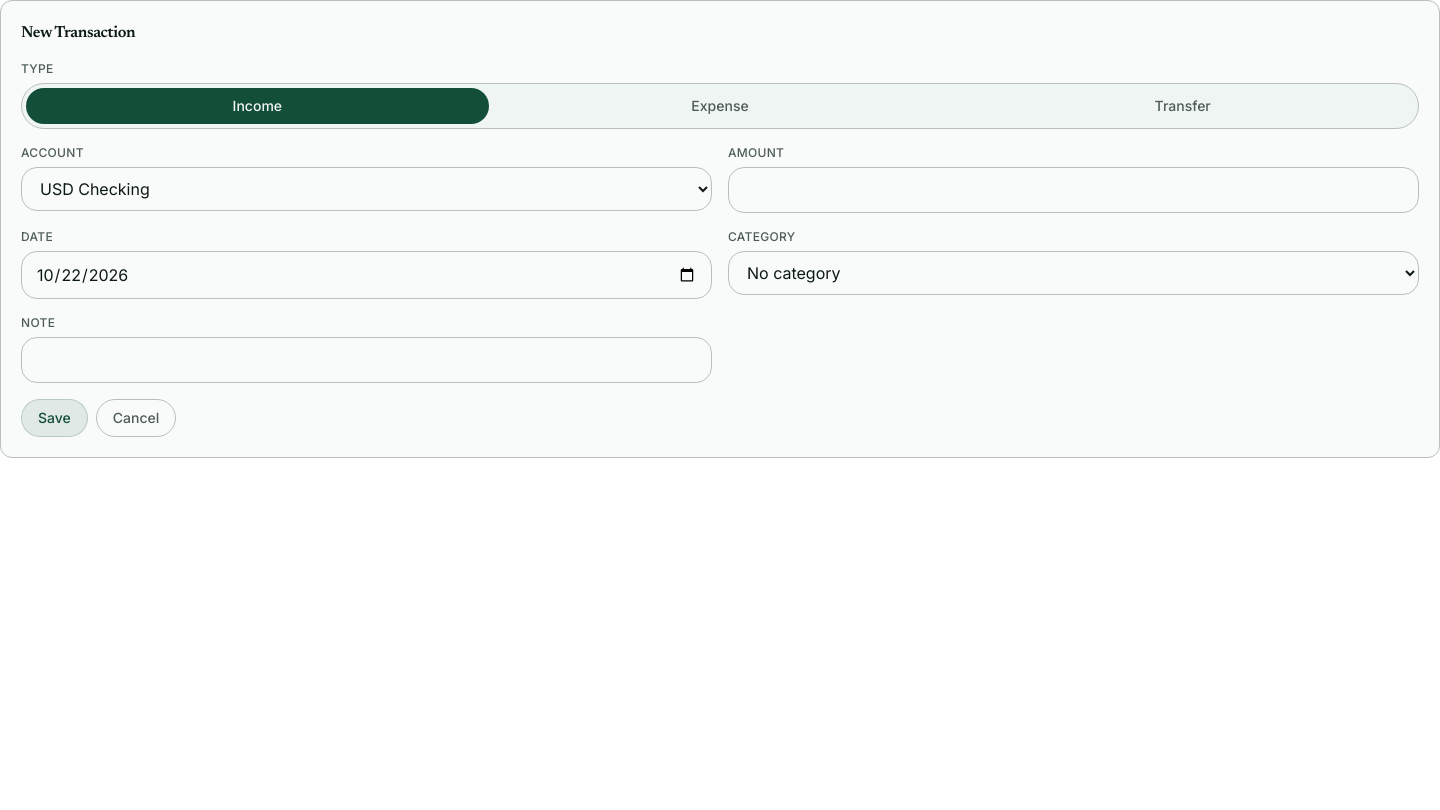
Test case: Automatic conversion › discards a stale response when a newer request supersedes it
This screenshot has width=1440, height=810.
Click the radio button labelled "Transfer" at (1183, 106), box left=951, top=88, right=1414, bottom=124
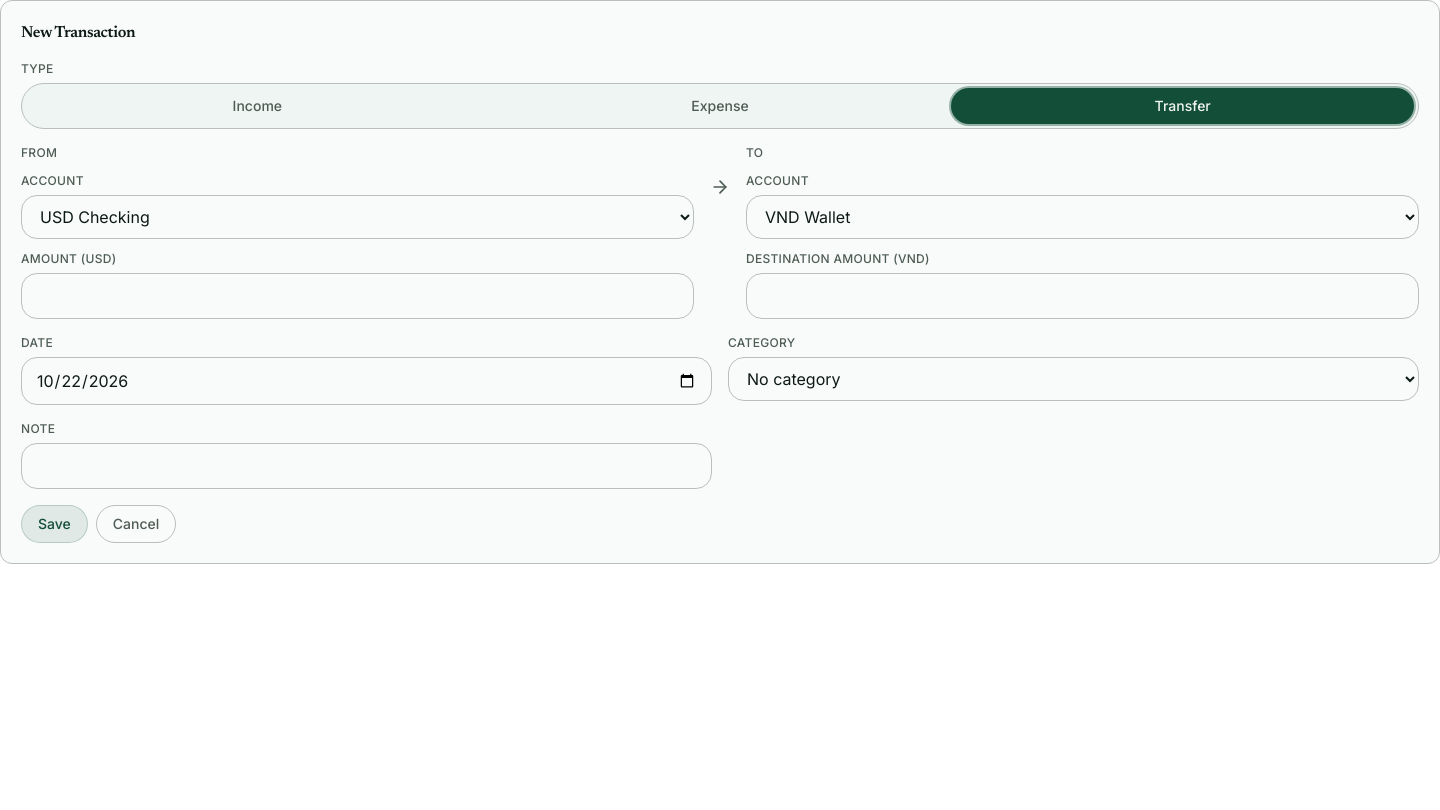
Type "500" into the number field labelled "Amount (USD)" at (358, 296), box left=21, top=273, right=694, bottom=319
Wait 600 ms
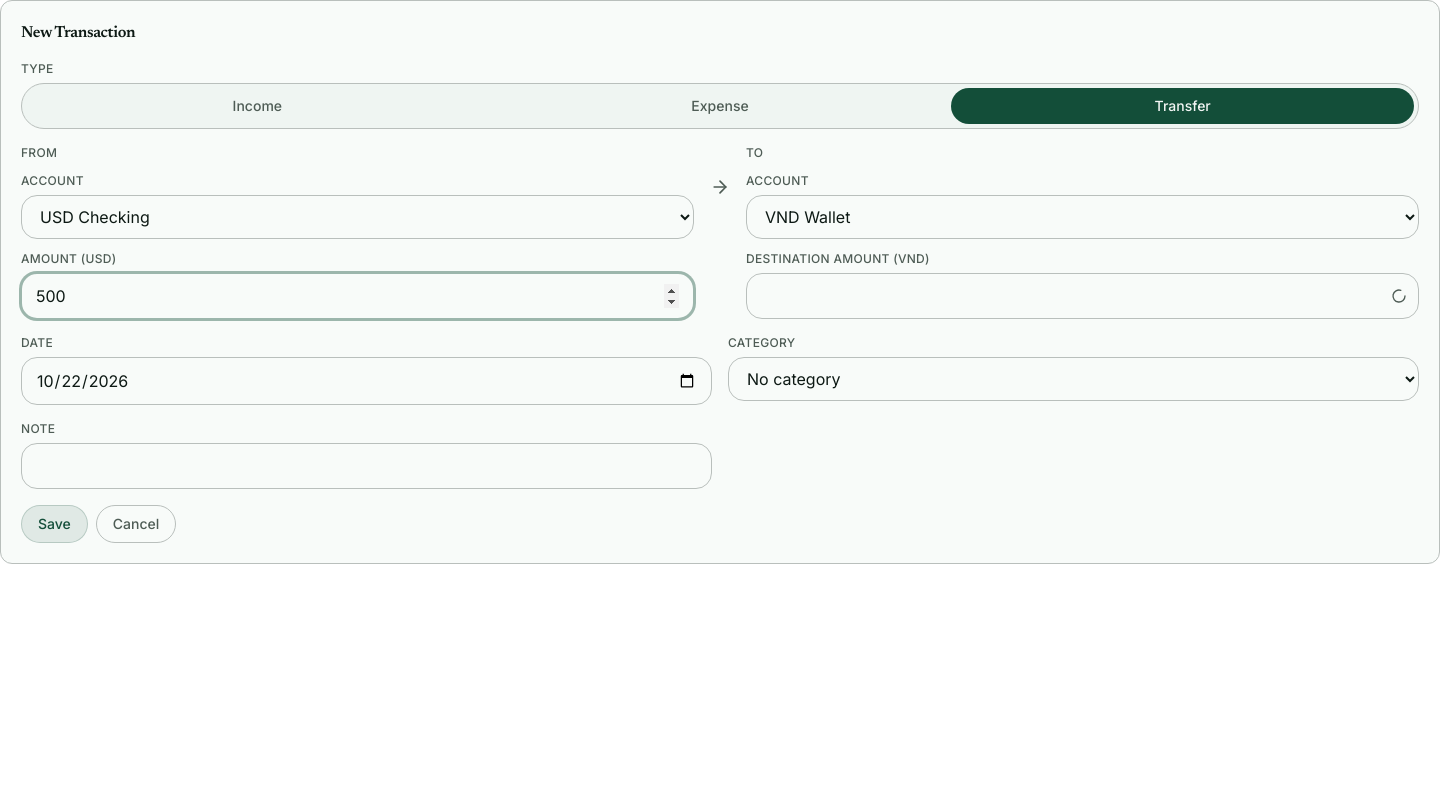
Replace the text in the number field labelled "Amount (USD)" with "700" at (358, 296), box left=21, top=273, right=694, bottom=319
Wait 600 ms
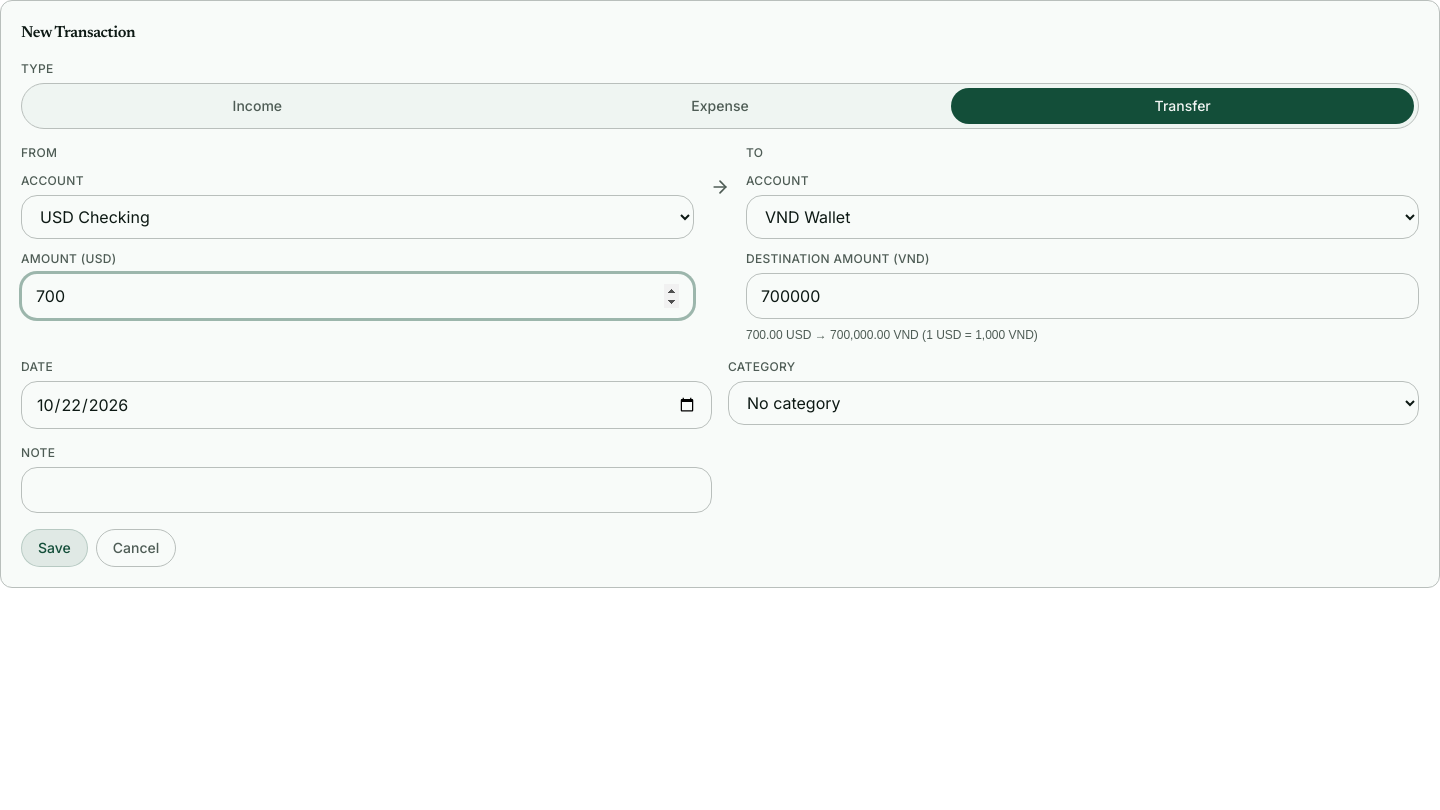
Expected: the number field labelled "Destination Amount (VND)" holds "700000", left=746, top=273, right=1419, bottom=319
